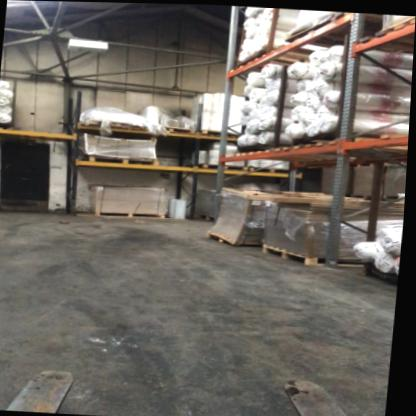vertical_damage: (322, 255, 345, 271)
